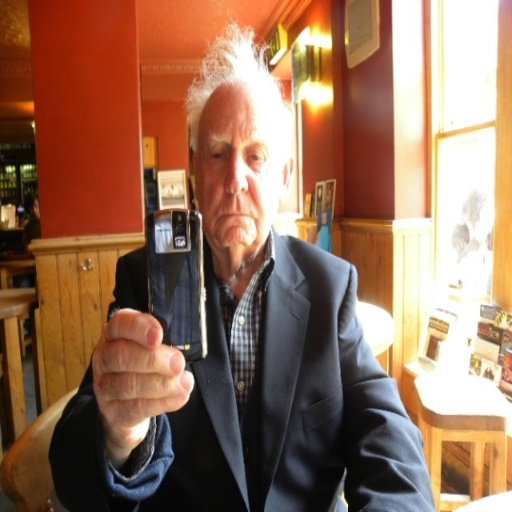hand: (91, 307, 195, 453)
